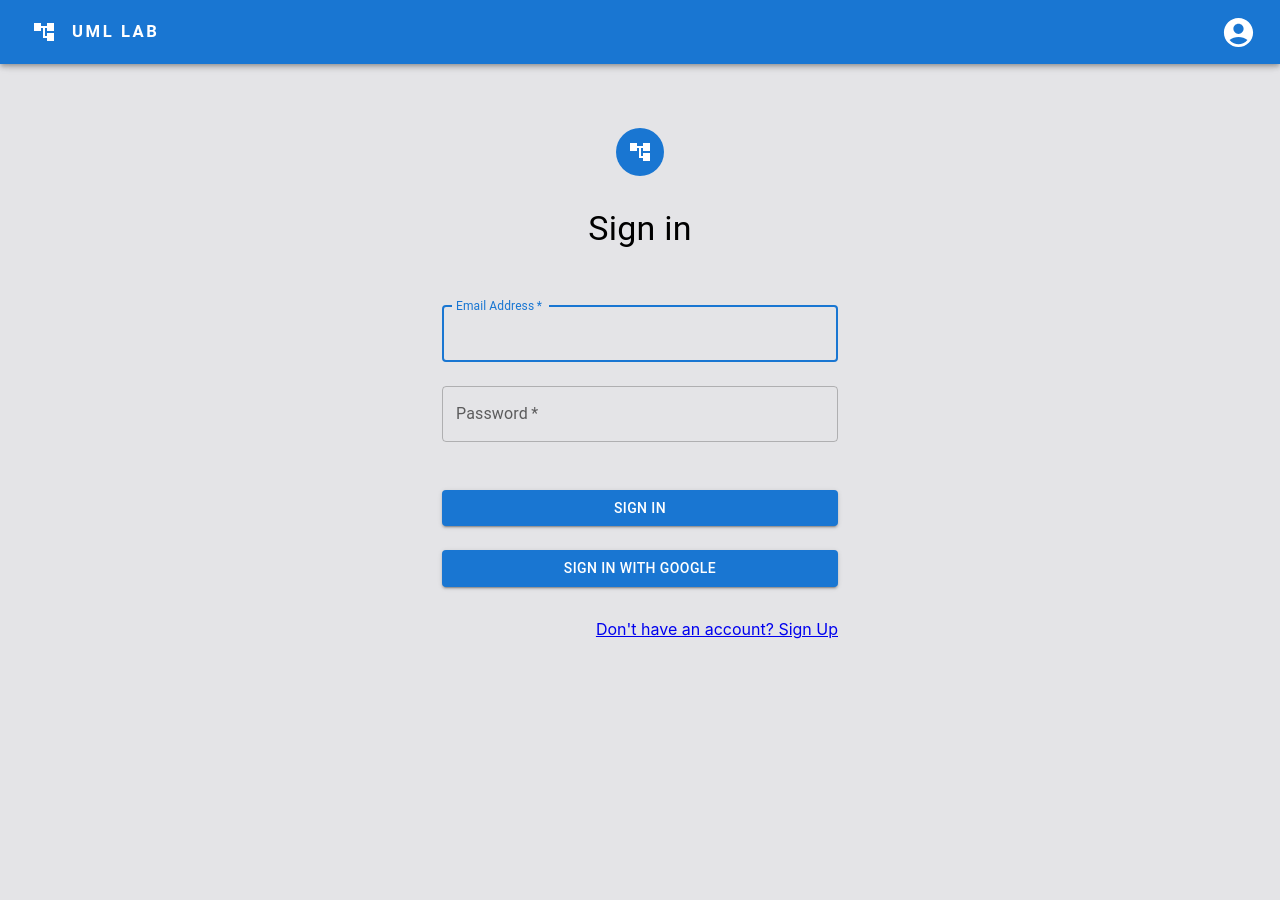
Test case: Login Testing › should display errors if form fields are invalid
Type "bademail" into the field with test id "email-box".
click(640, 334); type("bademail")  # box [442,306,838,362]
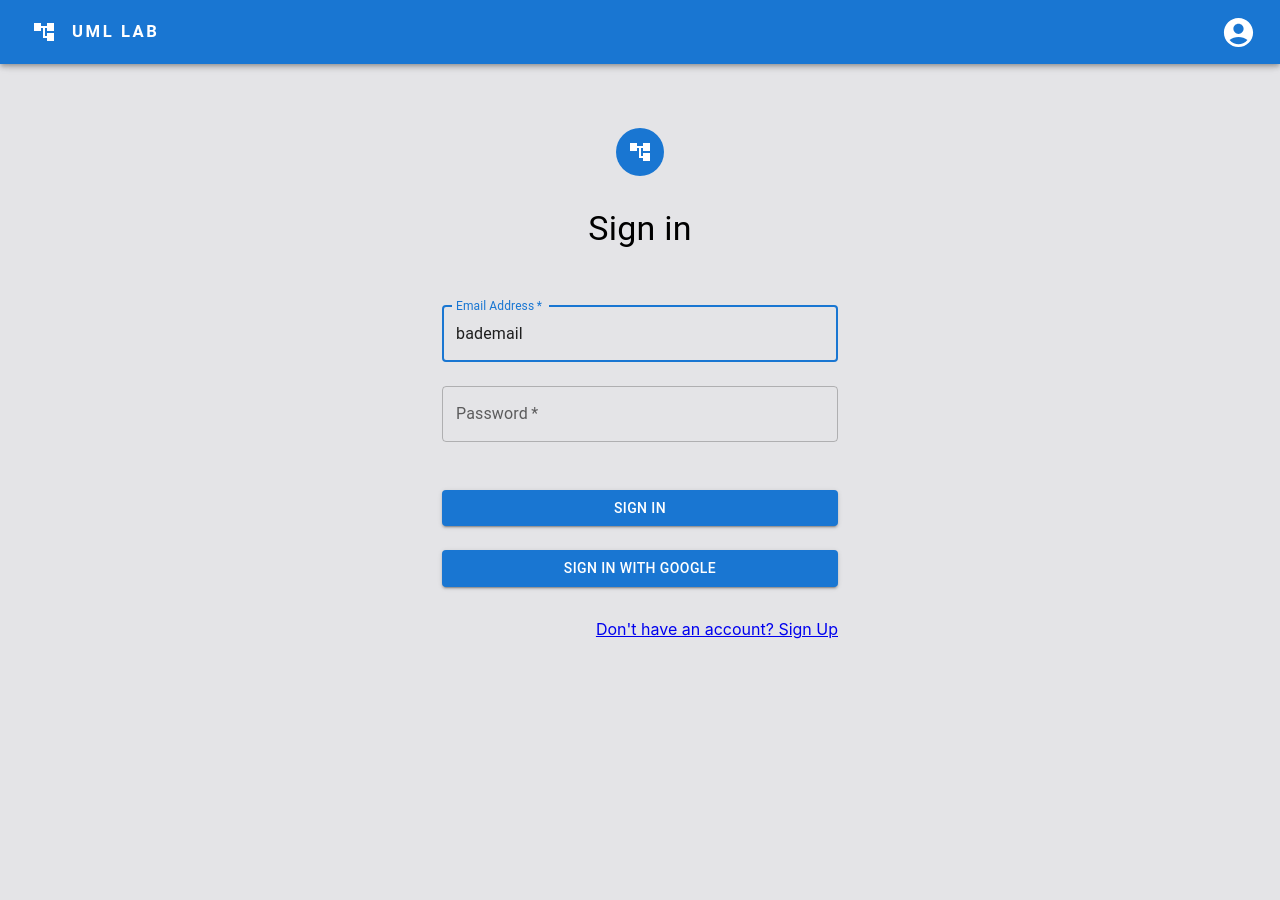
Type "p" into the password field with test id "password-box".
click(640, 414); type("p")  # box [442,386,838,442]
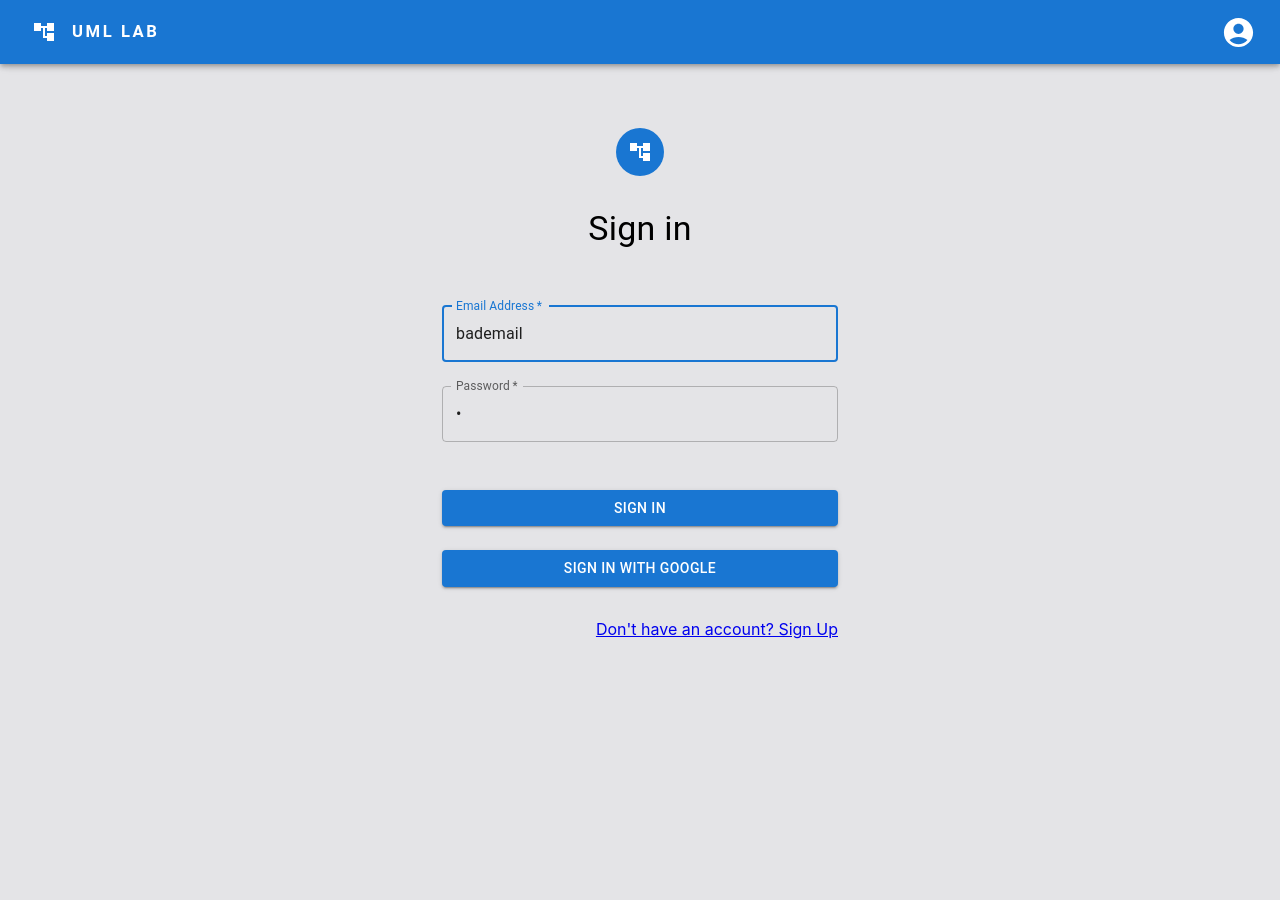
Click the button "Sign In".
click(640, 508)  # box [442,490,838,526]
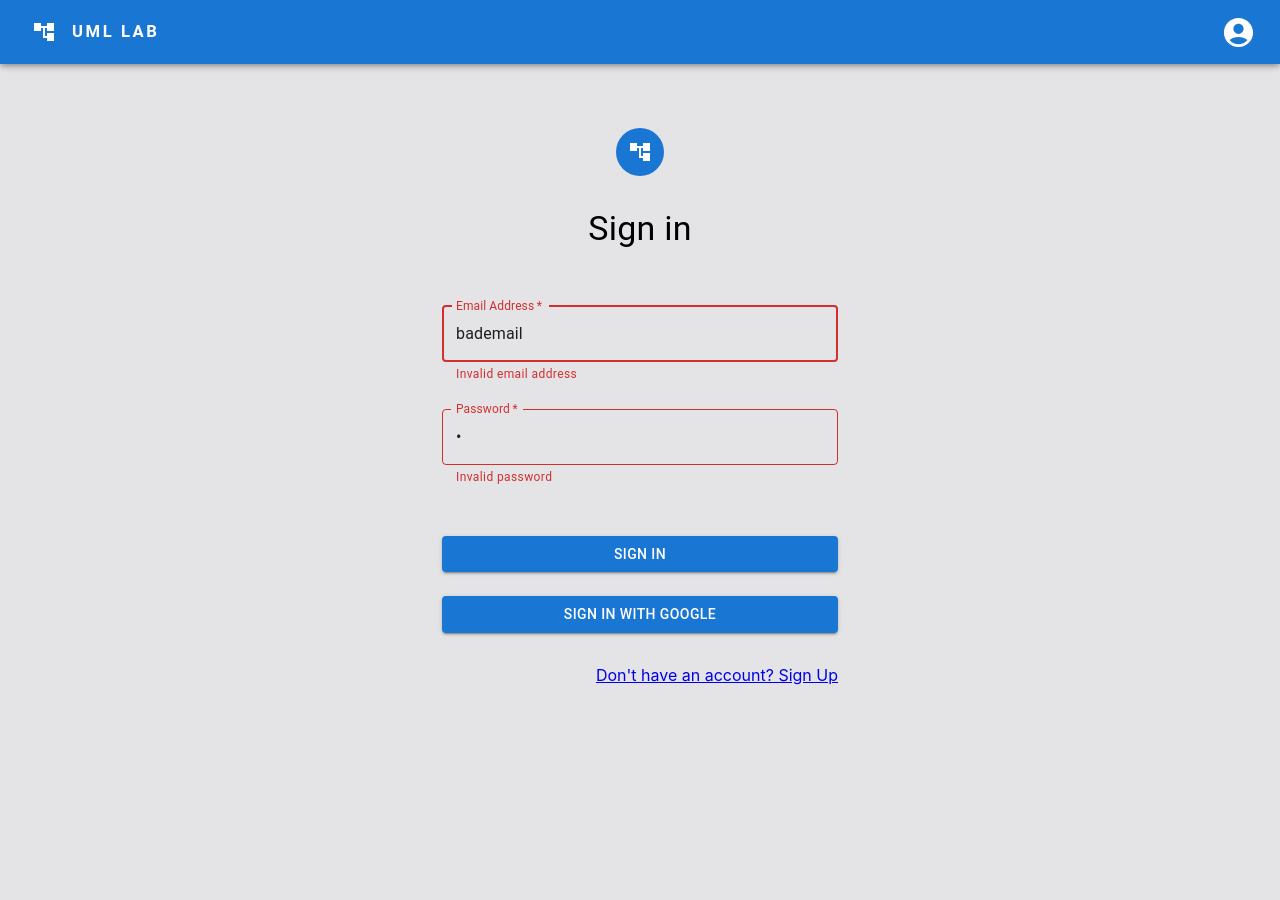
Expected: the text "Invalid email address" is shown, [456,367,577,381]
Expected: the text "Invalid password" is shown, [456,470,552,484]
